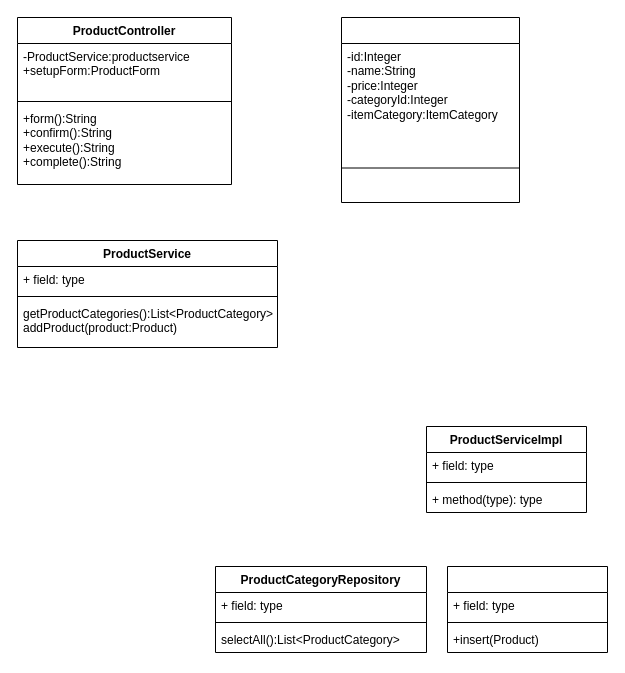
Image size: 625x673. Some labels were removed from this diagram. The box of each missing label's shape, as (x1, y1, x2, y2) in pixels:
ProductForm: (340, 16, 520, 202)
ProductRepository: (446, 566, 608, 652)
